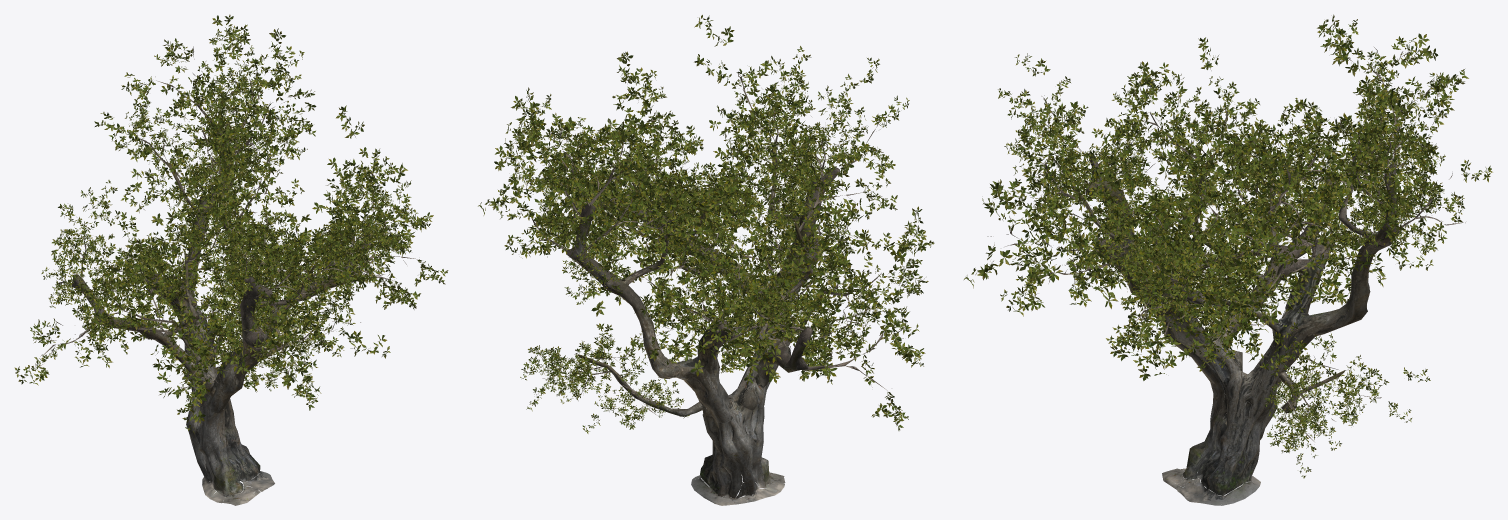
The model's file is leafy-island-tree.glb.
The picture shows the model from 3 angles, left to right: view 1: azimuth 30°, elevation 25°; view 2: azimuth 150°, elevation 25°; view 3: azimuth 270°, elevation 25°; orthographic projection. The views are drawn at different scales.
Visible parts, largest first — view 1: island_tree_01_LOD0; view 2: island_tree_01_LOD0; view 3: island_tree_01_LOD0.
Boxes of the visible parts, x1=… form: island_tree_01_LOD0: x1=14, y1=14, x2=448, y2=505; island_tree_01_LOD0: x1=478, y1=15, x2=934, y2=505; island_tree_01_LOD0: x1=964, y1=14, x2=1492, y2=505.
Size of the model in its own units: 4.76 by 5.03 by 4.82.
3 materials, 3 textured.
